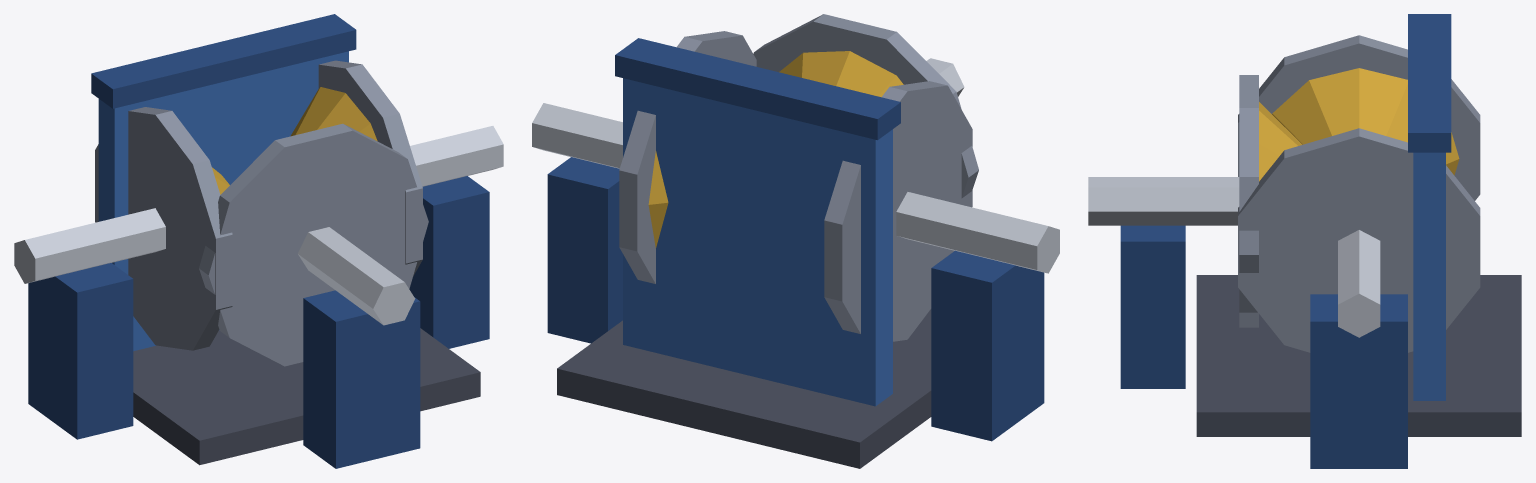
File: bevel-tee.glb
3 renders of one model, left to right at view 1: azimuth 30°, elevation 25°; view 2: azimuth 150°, elevation 25°; view 3: azimuth 270°, elevation 25°, orthographic. The views are drawn at different scales.
Visible parts, largest first — view 1: bevel-tee, spin-y, spin-nx, spin-x; view 2: bevel-tee, spin-nx, spin-x, spin-y; view 3: bevel-tee, spin-x, spin-nx, spin-y.
Boxes of the visible parts, <box> form: bevel-tee: <box>28,14,489,468</box>; spin-y: <box>199,123,428,366</box>; spin-nx: <box>14,107,232,350</box>; spin-x: <box>290,60,503,276</box>; bevel-tee: <box>547,38,1044,468</box>; spin-nx: <box>824,81,1059,341</box>; spin-x: <box>532,31,756,283</box>; spin-y: <box>753,14,978,198</box>; bevel-tee: <box>1120,14,1521,468</box>; spin-x: <box>1238,128,1480,352</box>; spin-nx: <box>1238,35,1480,200</box>; spin-y: <box>1088,75,1302,327</box>.
Size of the model in its own units: 1 by 0.6 by 0.8.
Materials: 4 (4 with a texture image).
